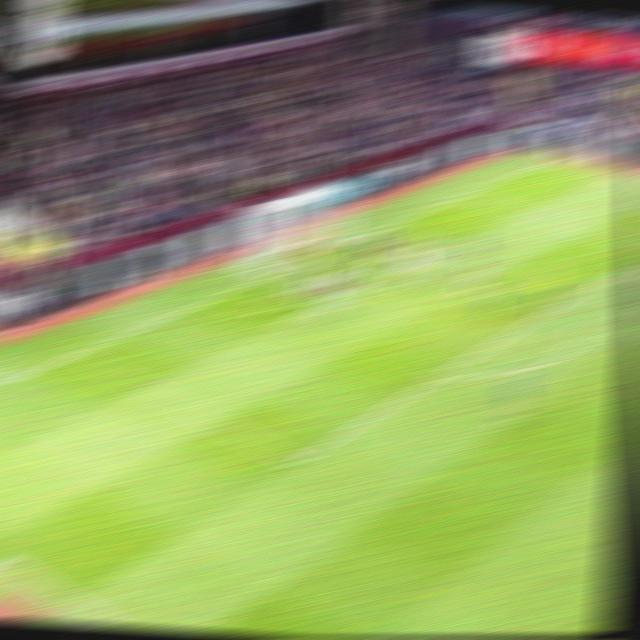bigarea_bottom_inner: (278, 447, 316, 472)
bigarea_bottom_outter: (61, 344, 92, 361)
bigarea_top_outter: (451, 187, 480, 202)
bottom_arc_area_intersection: (426, 362, 461, 384)
corner: (535, 153, 568, 166)
smallarea_bottom_inner: (261, 311, 294, 333)
smallarea_bottom_outter: (199, 288, 232, 305)
smallarea_top_inner: (428, 239, 459, 257)
smallarea_top_outter: (371, 220, 403, 235)
top_arc_area_intersection: (554, 287, 588, 308)
